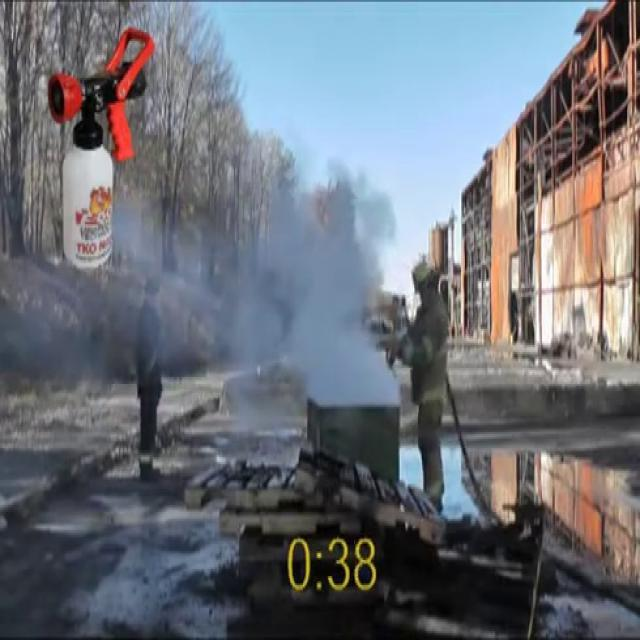Smoke: (102, 119, 401, 425)
